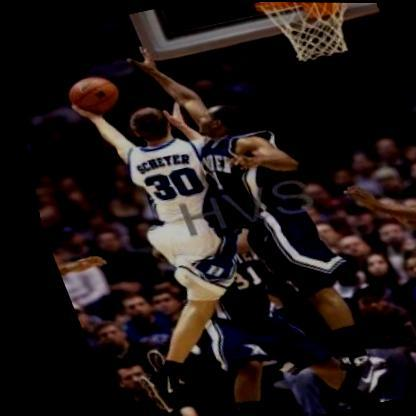basketball: (52, 67, 130, 123)
